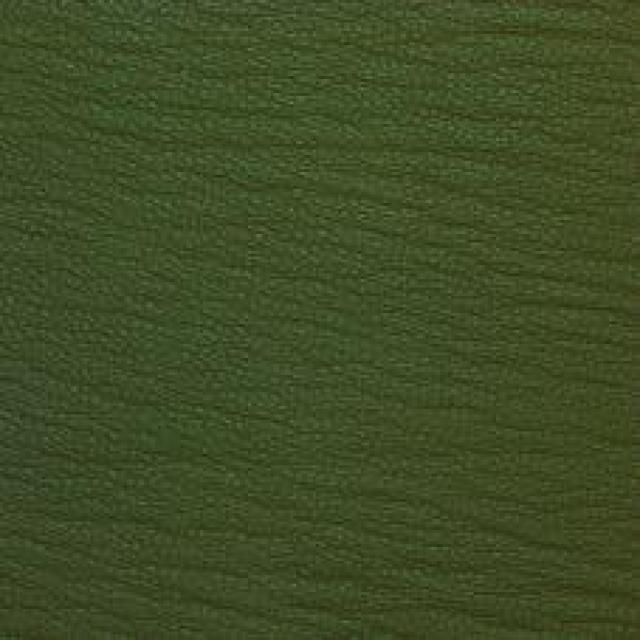Growth Marks: (124, 51, 556, 197), (190, 478, 556, 602)
